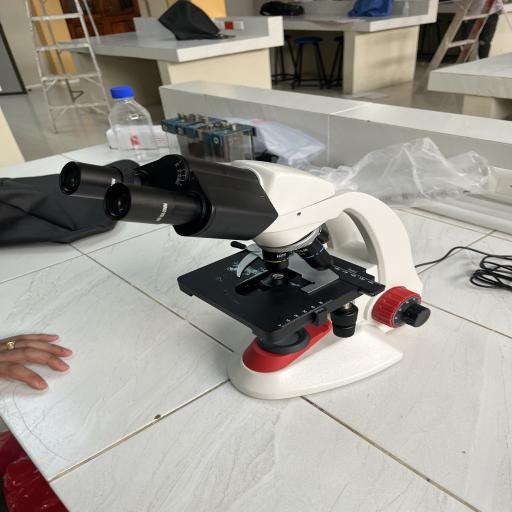Microscopio_Binocular: (51, 145, 454, 406)
